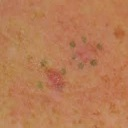Carcinoma: (72, 39, 97, 70), (41, 67, 69, 90)
